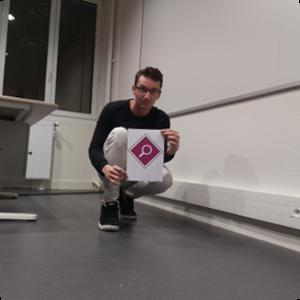search: (130, 134, 162, 167)
